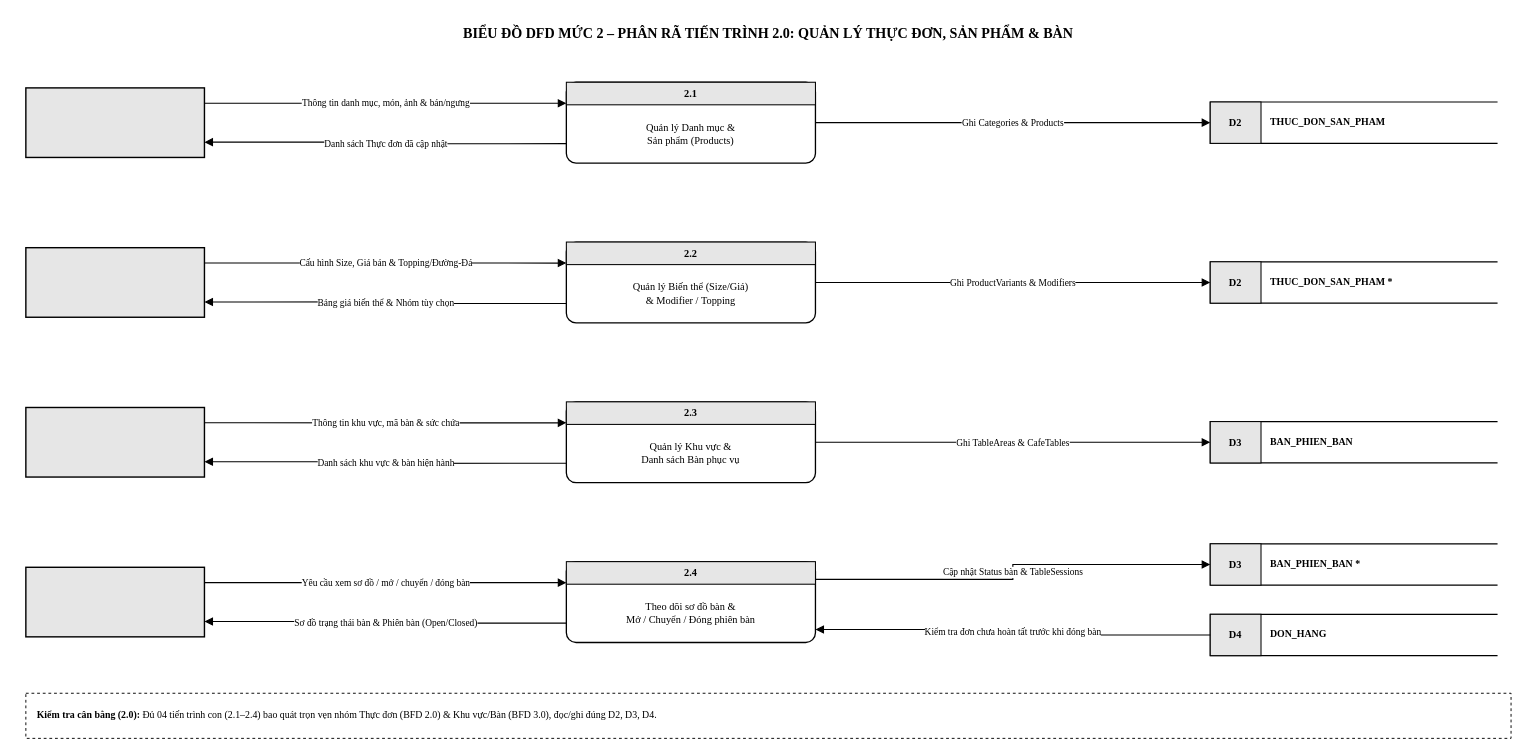
Image size: 1536x755. Some labels were removed from this diagram. The centre of each missing label's shape, as x and y in pixels:
"Quản lý (MANAGER) *" belongs at (x=115, y=441).
"Quản lý / Chủ quán (MANAGER / ADMIN)" belongs at (x=115, y=122).
"Quản lý / Chủ quán (MANAGER / ADMIN) *" belongs at (x=115, y=282).
"Thu ngân (CASHIER)" belongs at (x=115, y=601).
